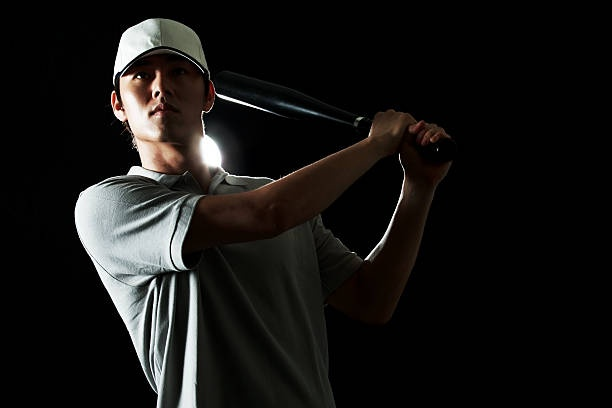bita: (213, 71, 452, 155)
